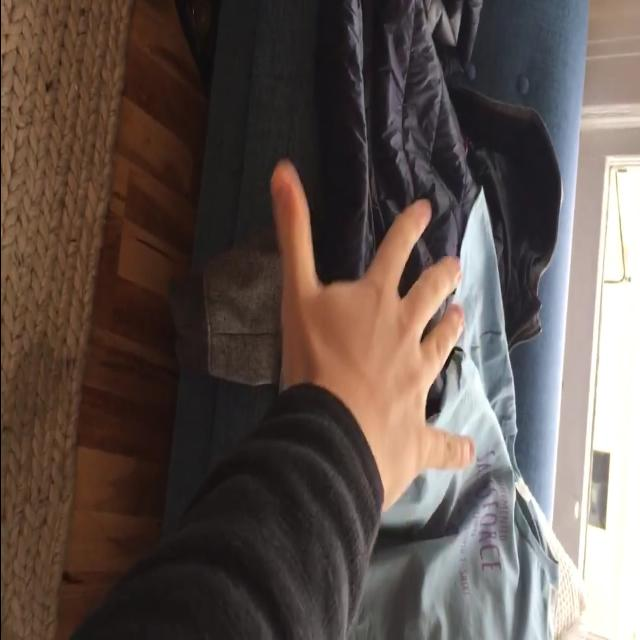Paper: (268, 167, 477, 505)
